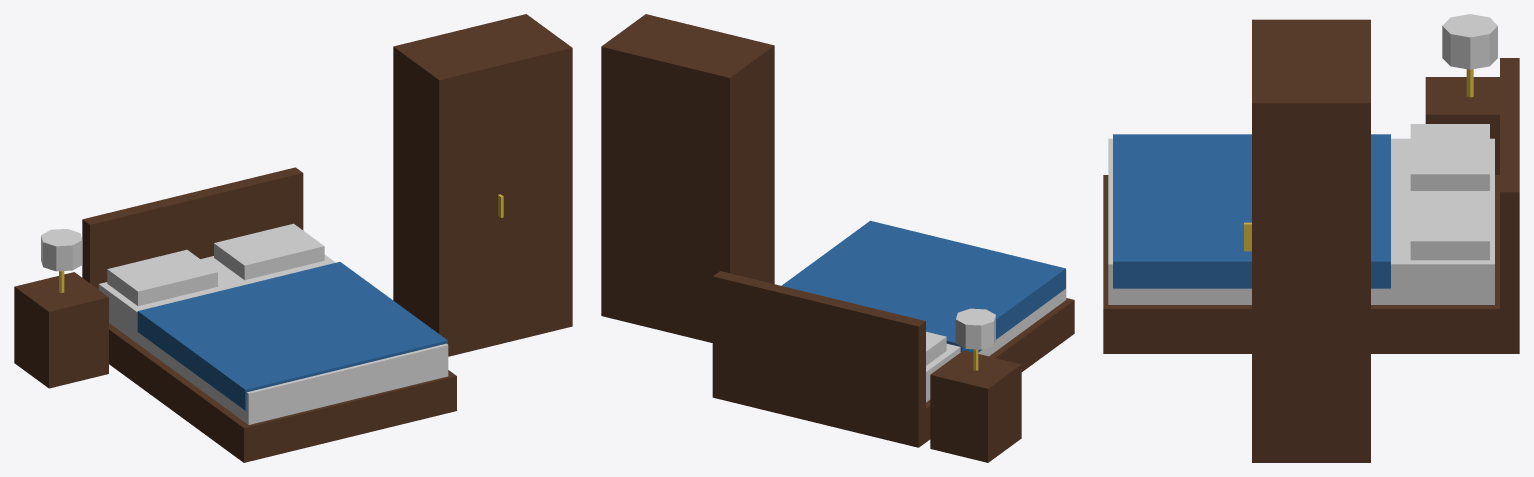
Rendered from interior_flat_bed_wardrobe.glb.
3 views of the same model, side by side, from view 1: azimuth 30°, elevation 25°; view 2: azimuth 150°, elevation 25°; view 3: azimuth 270°, elevation 25° (orthographic). The views are drawn at different scales.
Parts seen in each view (by area): view 1: interior_flat_bed_wardrobe; view 2: interior_flat_bed_wardrobe; view 3: interior_flat_bed_wardrobe.
Boxes of the visible parts, x1,y1,x2,y2 form: interior_flat_bed_wardrobe: (14, 14, 572, 462); interior_flat_bed_wardrobe: (601, 14, 1074, 462); interior_flat_bed_wardrobe: (1103, 14, 1519, 462).
Bounding box in the file's own units: 3.43 × 2 × 2.1.
1 material, 1 textured.
